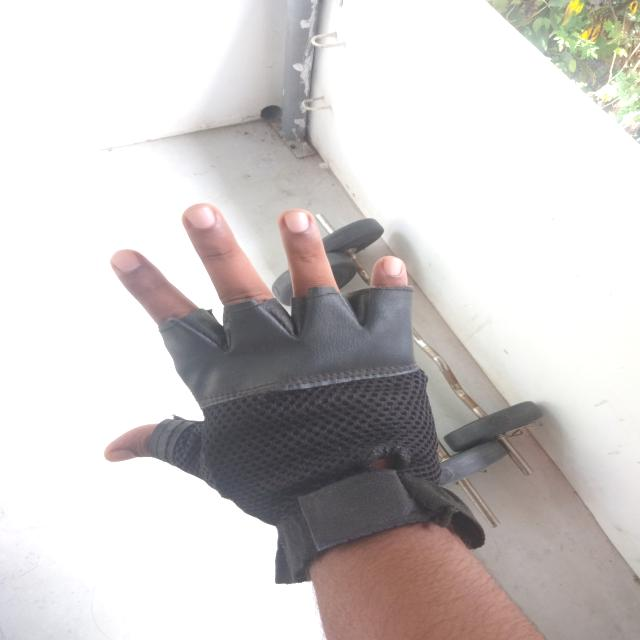glove: (128, 276, 499, 590)
